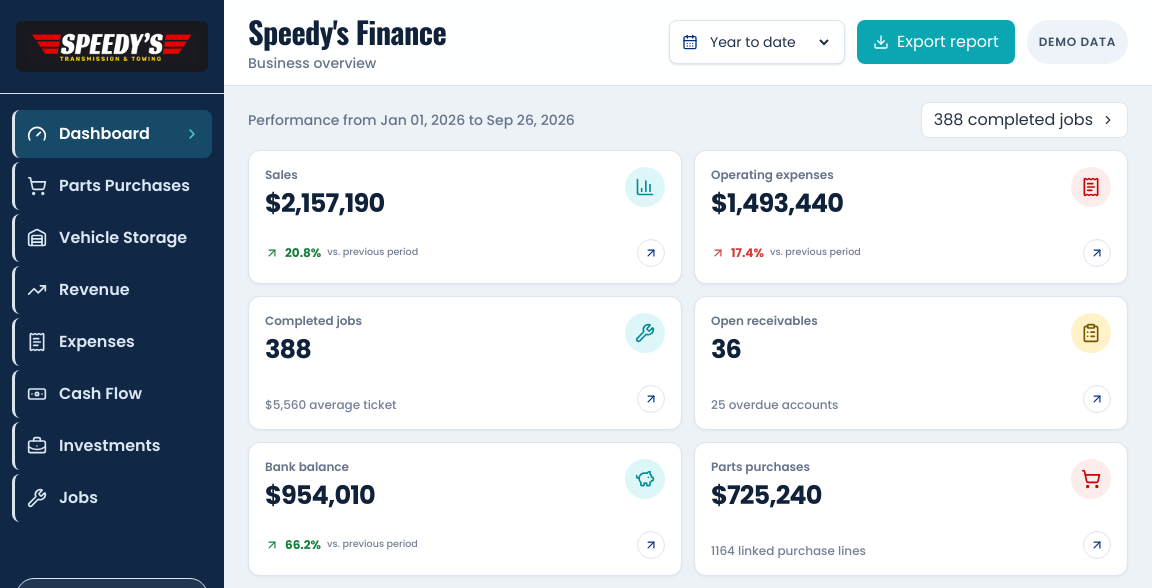
it: dashboard › shows purchase traceability and storage inventory
Expected: the heading "Speedy's Finance" is shown, top-left (248, 12), bottom-right (446, 52)
Click the button "Parts Purchases": [112, 186] box top-left (12, 162), bottom-right (212, 210)
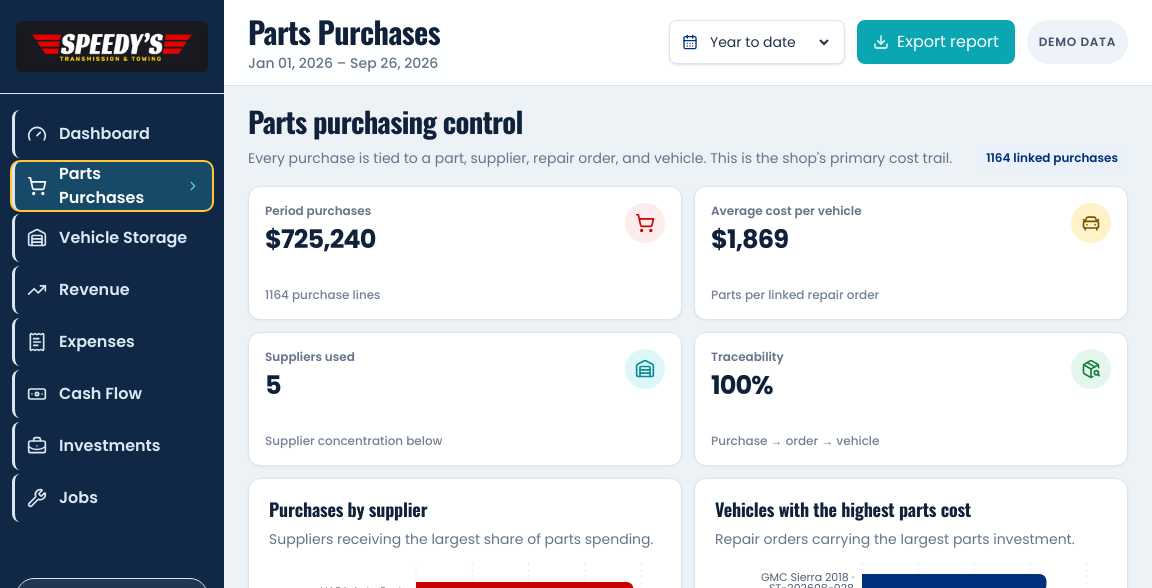
Now the heading "Parts purchasing control" is shown, box top-left (248, 100), bottom-right (523, 142)
Click the button "Vehicle Storage": [112, 238] box top-left (12, 214), bottom-right (212, 262)
(page scrolled)
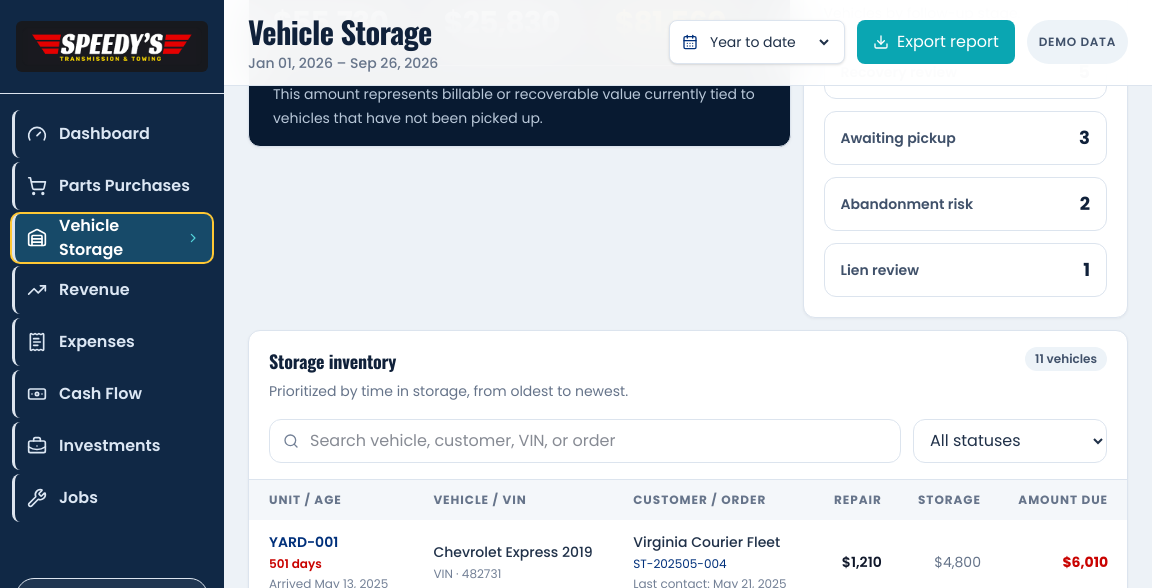
Now the heading "Storage inventory" is shown, box top-left (269, 348), bottom-right (396, 374)
